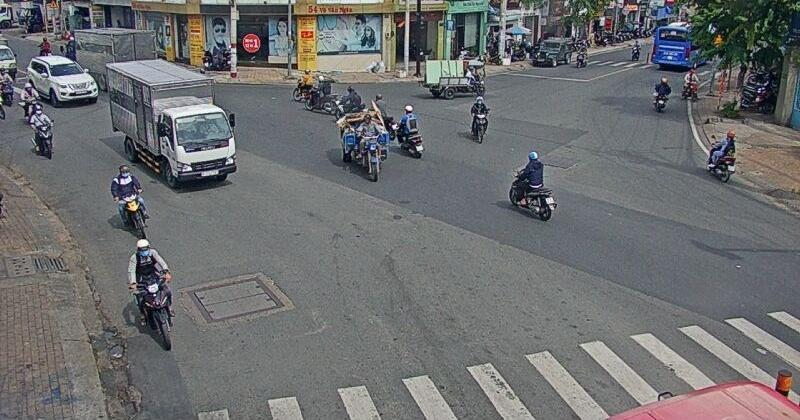xe hoi: (26, 55, 97, 105)
xe may: (127, 238, 173, 354), (507, 151, 556, 221), (111, 164, 148, 237), (706, 131, 736, 183), (396, 105, 423, 157), (28, 107, 53, 159), (470, 96, 489, 142)
xe tai: (105, 59, 234, 187)
